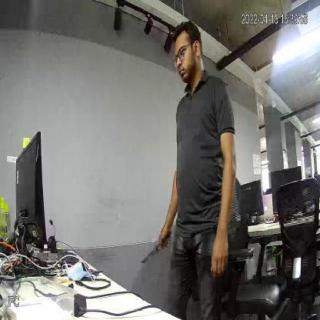knife: (141, 241, 161, 267)
